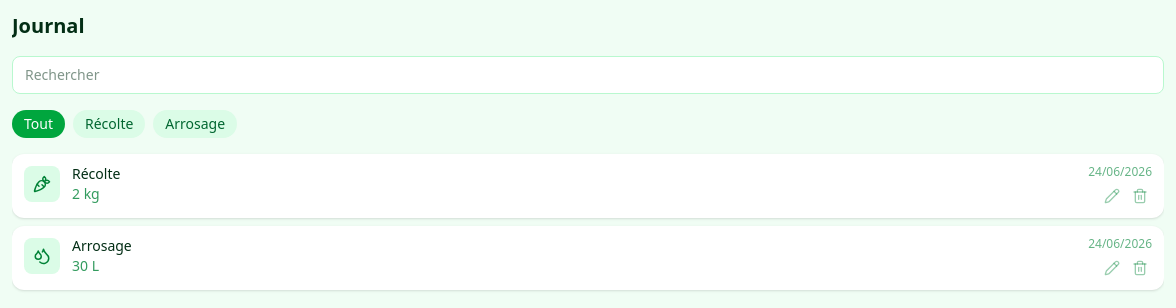
Test: JournalPage › un filtre de type masque les entrées des autres types
expect the text "30 L" is shown: met, box [72,256,99,275]
Click the button "Récolte": (109, 124) [73,110,145,138]
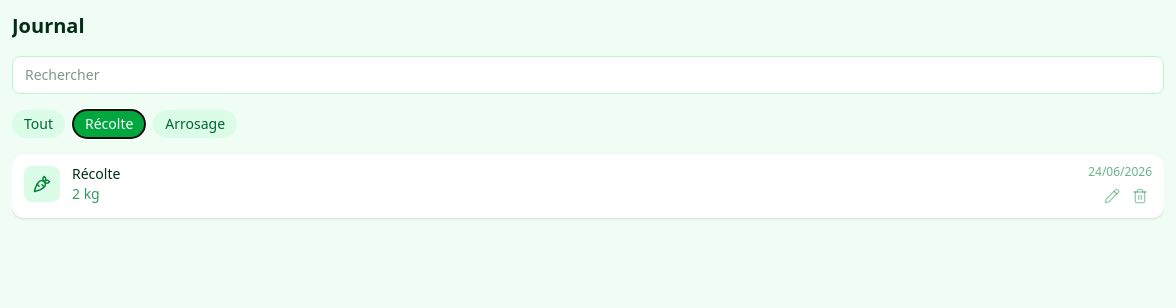
expect the text "2 kg" is shown: met, box [72,184,100,203]
expect the text "30 L" is gone: met
